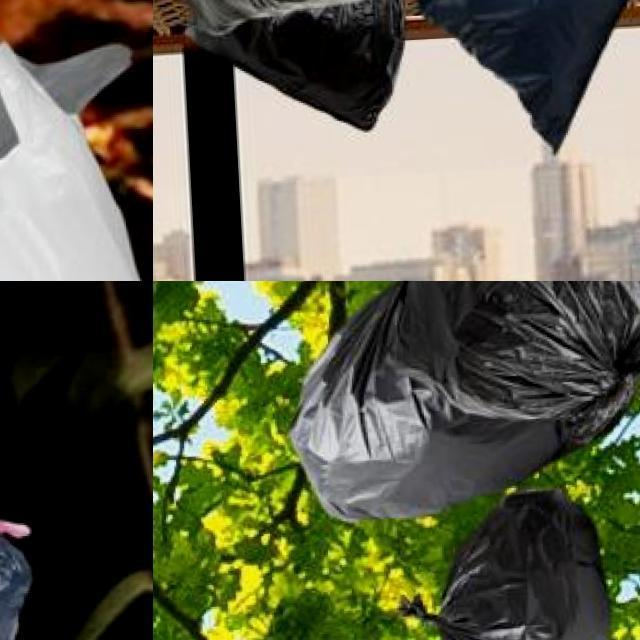waste: (275, 281, 640, 523), (0, 38, 153, 281), (400, 492, 620, 640), (206, 2, 414, 140), (436, 0, 640, 140), (0, 0, 130, 172)
